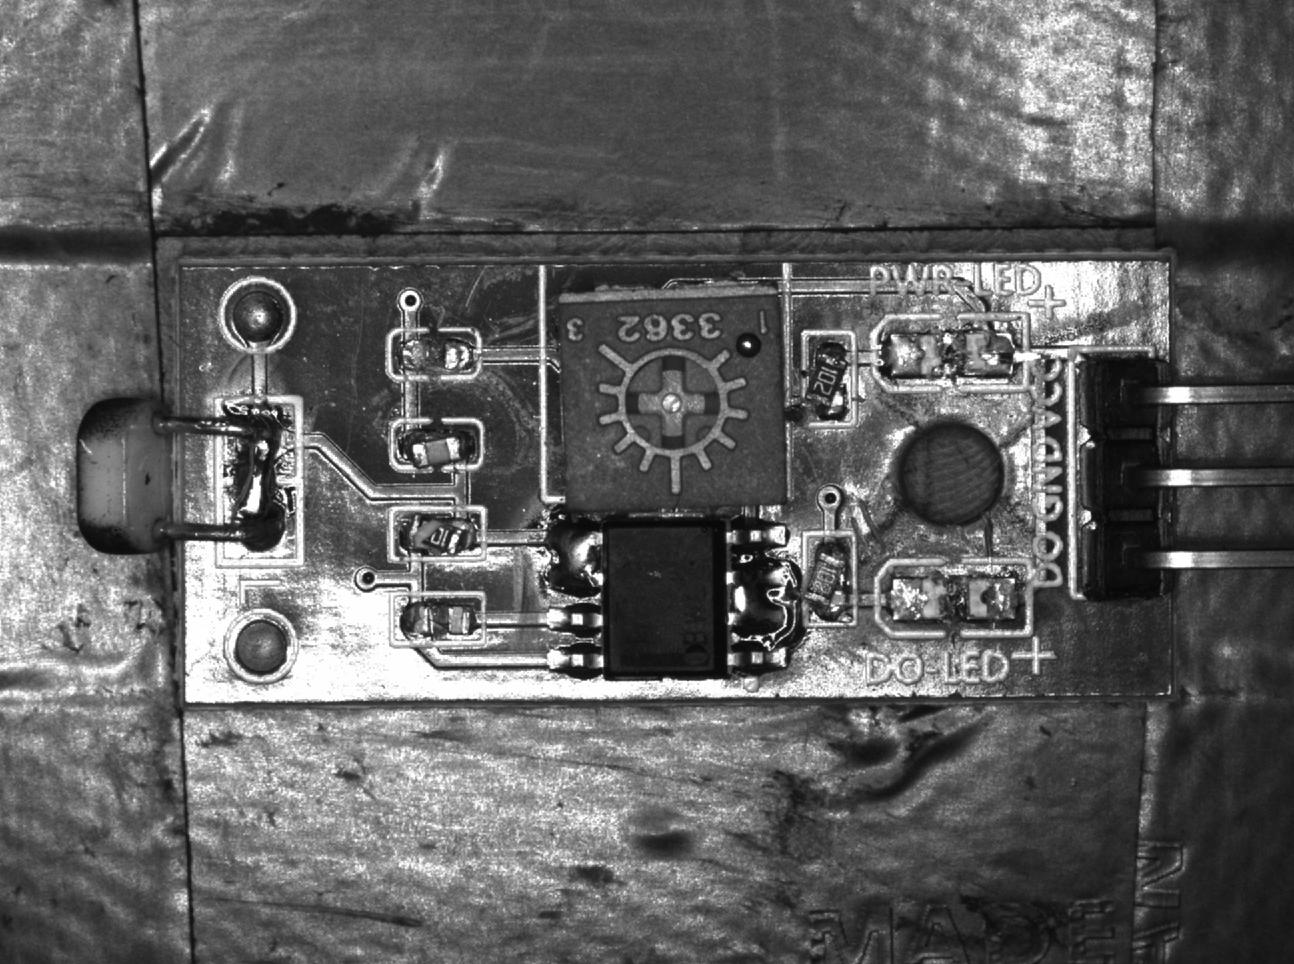bridge: (213, 402, 302, 560), (736, 556, 796, 651), (545, 514, 604, 598)
lifted: (389, 416, 487, 477), (388, 506, 486, 563), (802, 329, 855, 429), (808, 532, 856, 632)
miss: (390, 590, 488, 650), (391, 330, 481, 381)
